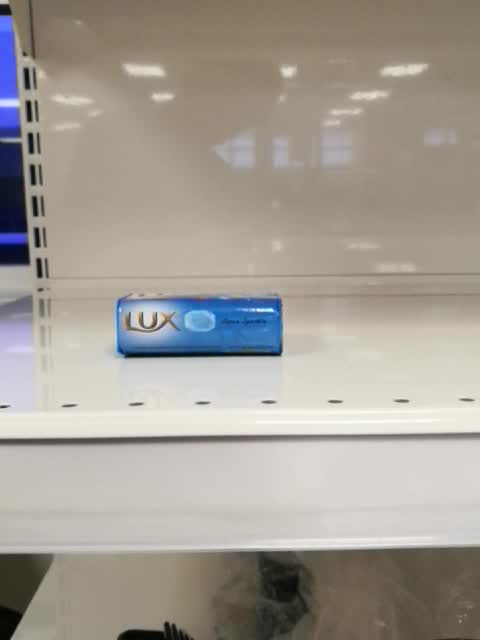soap: (114, 288, 287, 360)
